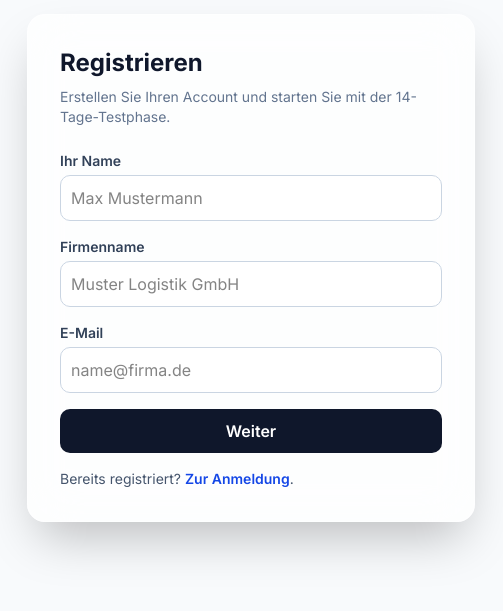
RegisterPage › zeigt Fehlermeldung bei fehlgeschlagener Registrierung
In the field with placeholder "Max Mustermann": (251, 198) x1=60 y1=175 x2=442 y2=221, type "Test User"
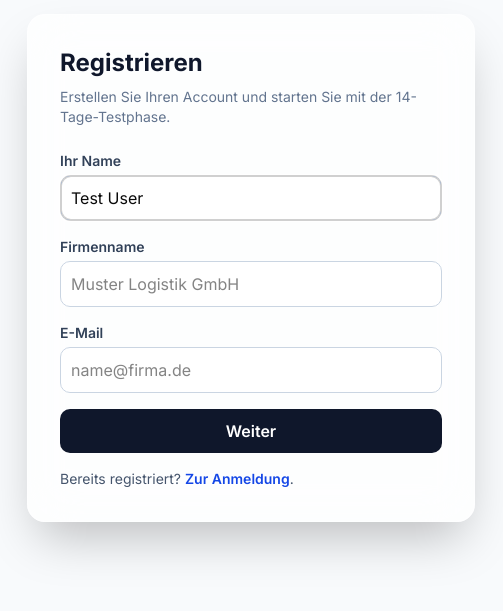
In the field with placeholder "Muster Logistik GmbH": (251, 284) x1=60 y1=261 x2=442 y2=307, type "Test Company"
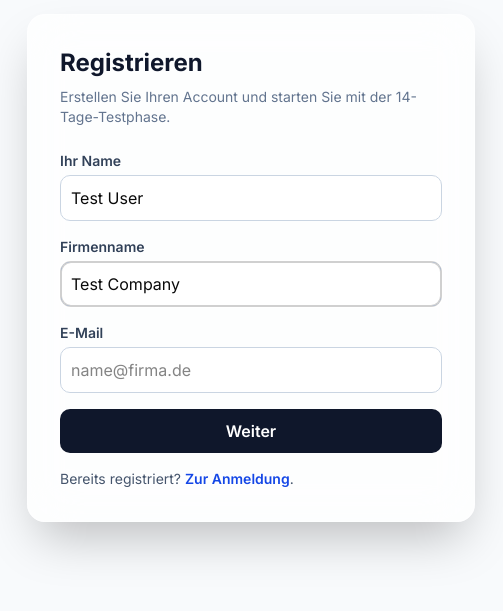
In the field with placeholder "name@firma.de": (251, 370) x1=60 y1=347 x2=442 y2=393, type "existing@example.com"
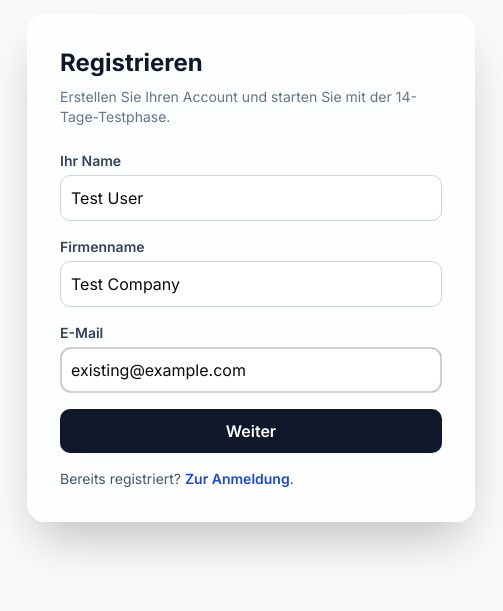
Click the button "Weiter": (251, 431) x1=60 y1=409 x2=442 y2=453
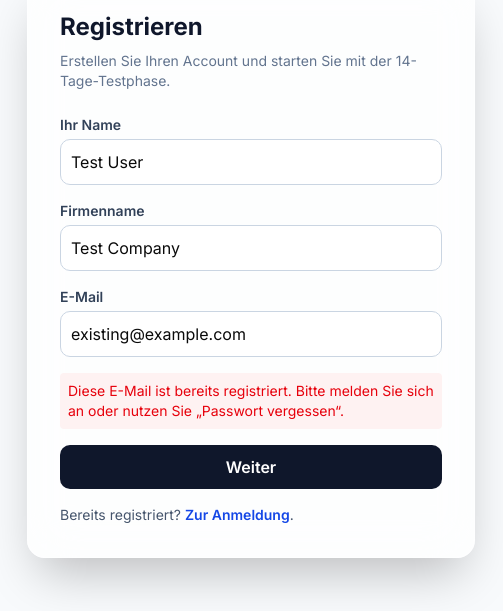
Result: the text "Diese E-Mail ist bereits registriert" is shown at x1=68 y1=382 x2=434 y2=419
